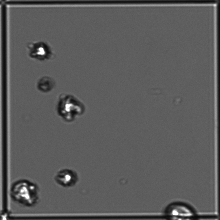Dead Cell: (37, 73, 55, 93)
Living Cell: (56, 91, 87, 124), (11, 177, 37, 205), (26, 35, 54, 60), (56, 167, 82, 189)
